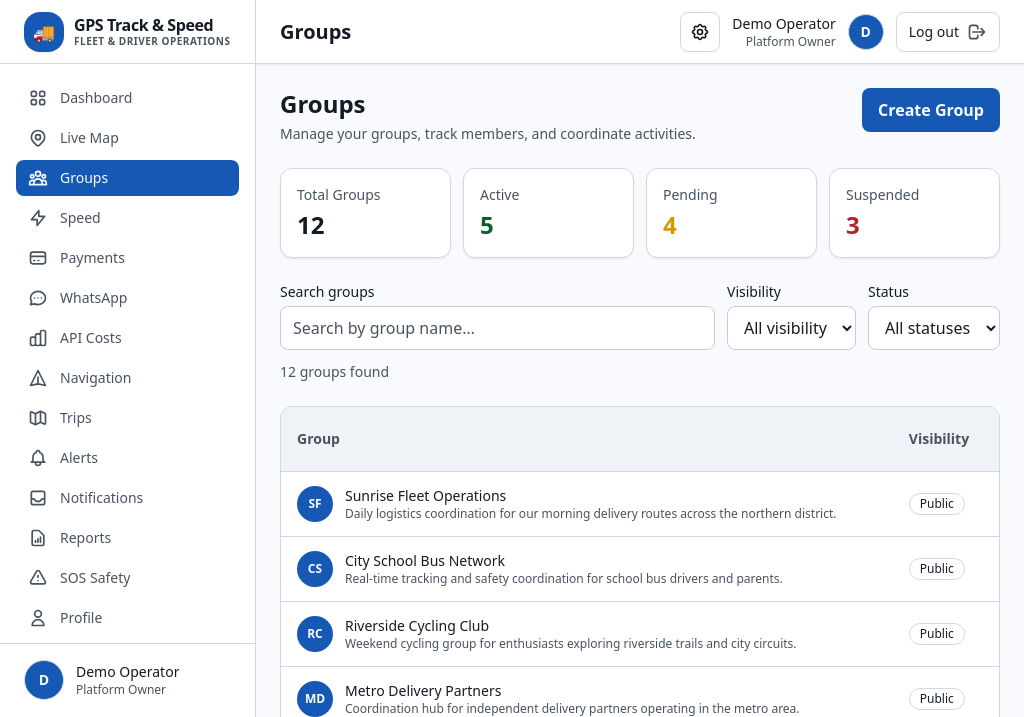
Test: GroupsPage › filters groups by visibility — private
This screenshot has width=1024, height=717.
Select "Private" in the dropdown named "filter by visibility" at {"x": 792, "y": 328}, box [727,306,856,350]
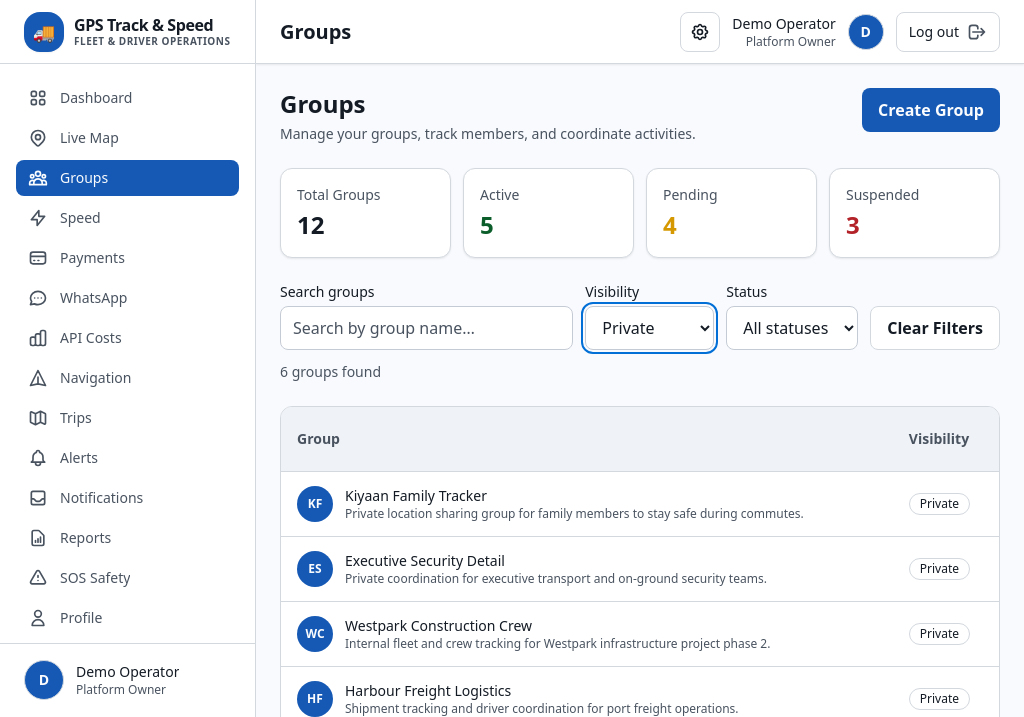
Expected: the button "Sunrise Fleet Operations" is gone
